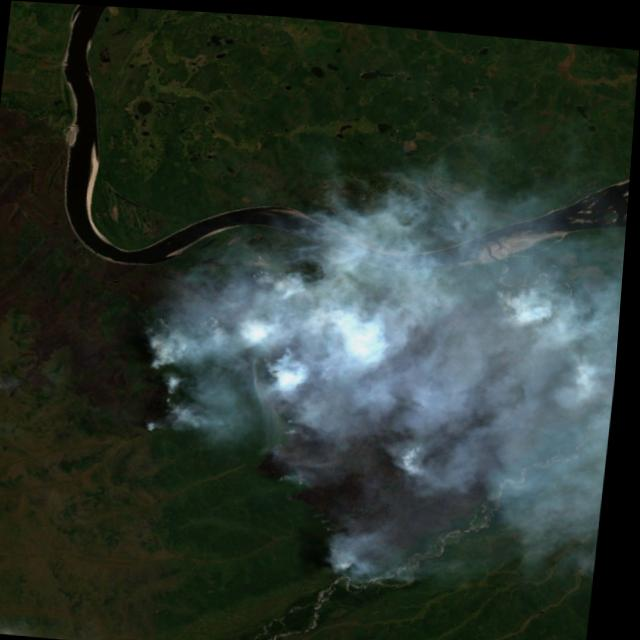fire: (104, 250, 564, 582)
